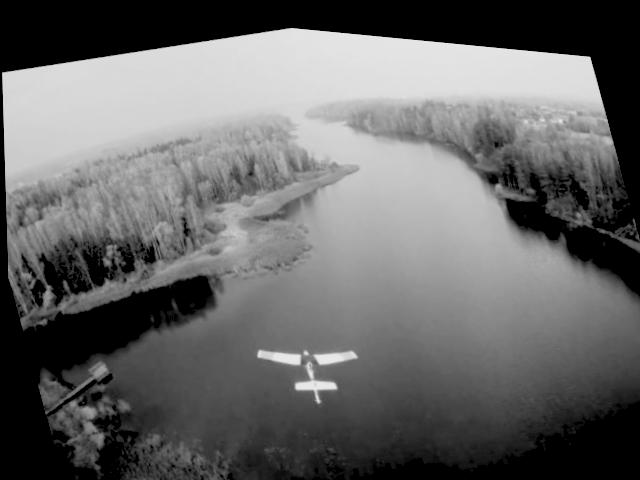hedef: (247, 311, 369, 414)
